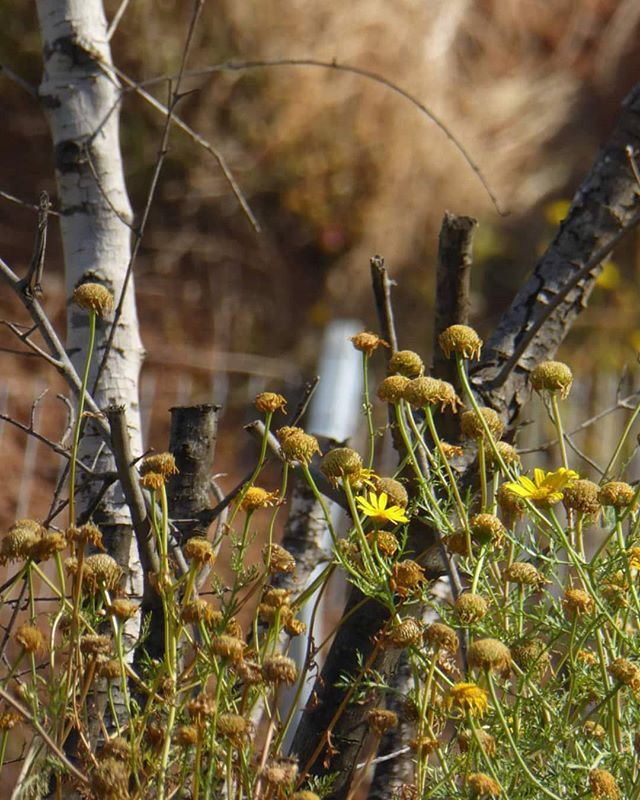flowers: (20, 289, 640, 800)
